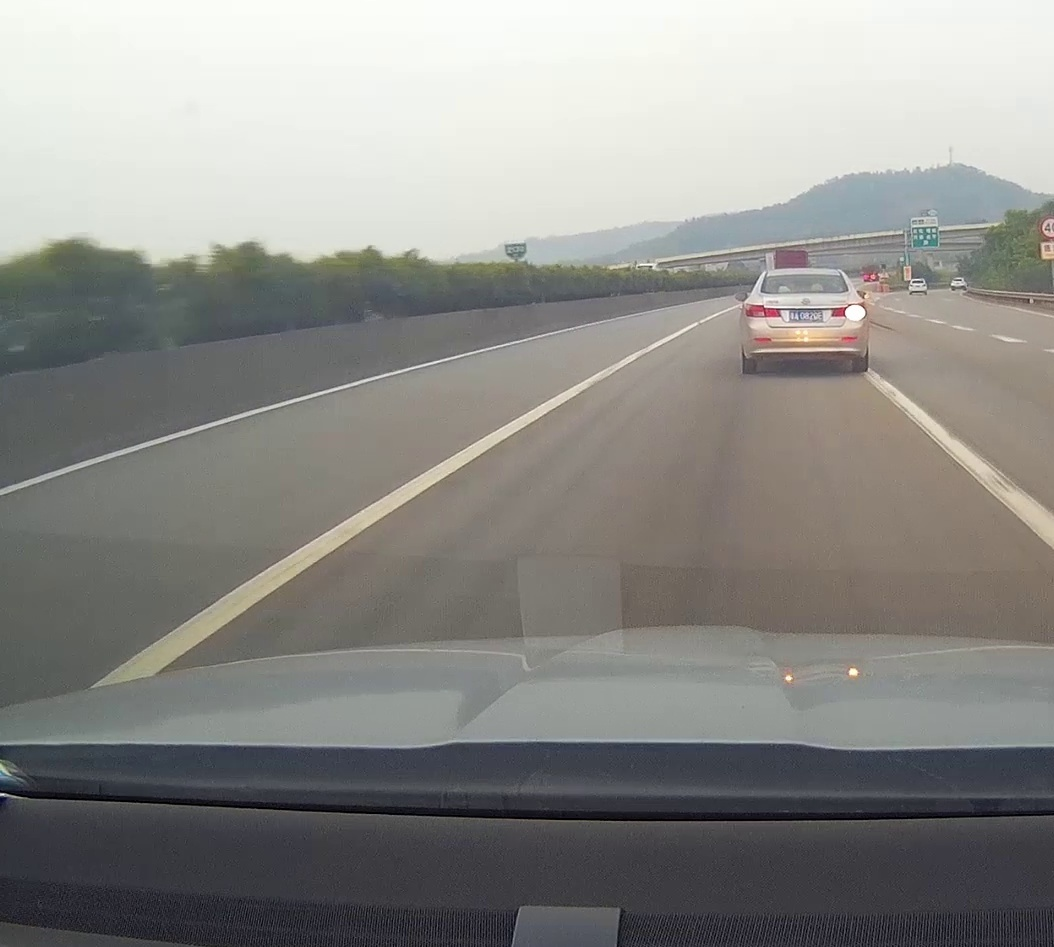L_light: (744, 303, 780, 317)
R_light: (831, 302, 865, 317)
T_light: (794, 275, 811, 277)
day-right: (740, 271, 868, 375)
